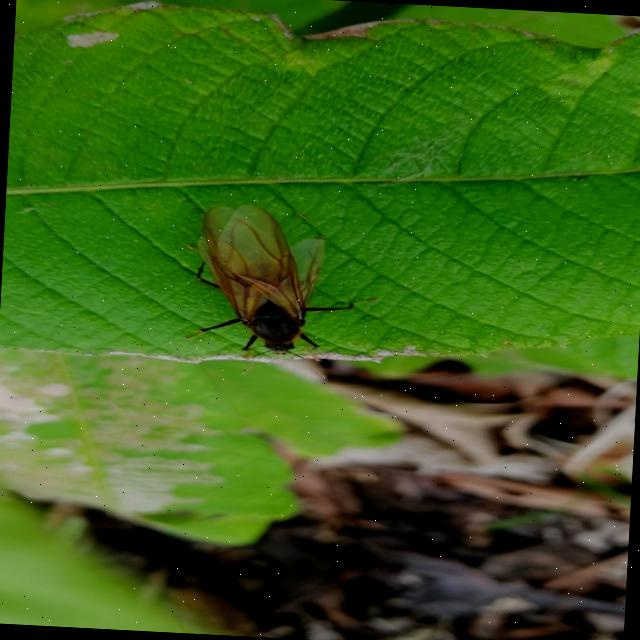Alive-Male-Alate: (180, 202, 382, 382)
